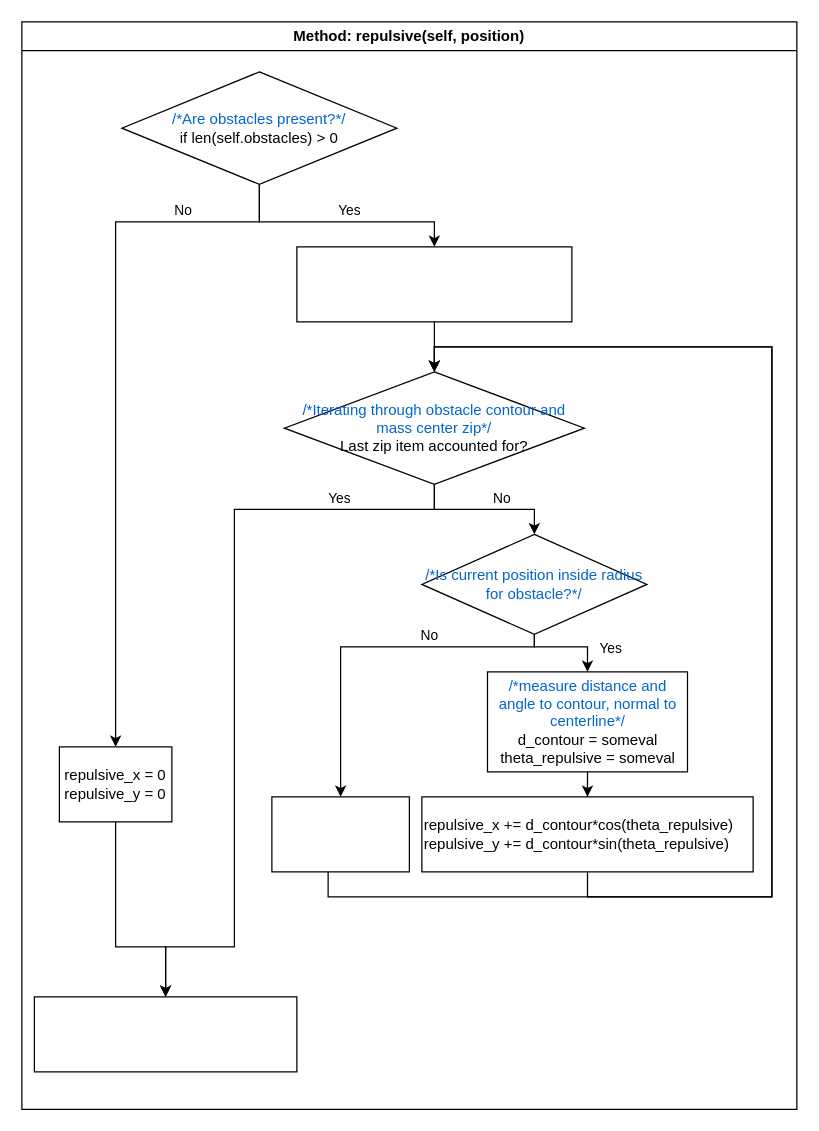
This 819x1131 diagram has some shape labels left out. The shapes that lost their labels are listed below. From the top down, each one's centre as x and y in pixels, then its label:
At (434,284): "/*Initialize summing variables*/ repulsive_x = 0 repulsive_y = 0".
At (340,834): "repulsive_x += 0 repulsive_y += 0".
At (165,1034): "return repulsive_x, repulsive_y".
